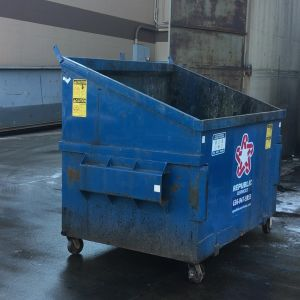Dumpster: (49, 41, 288, 286)
